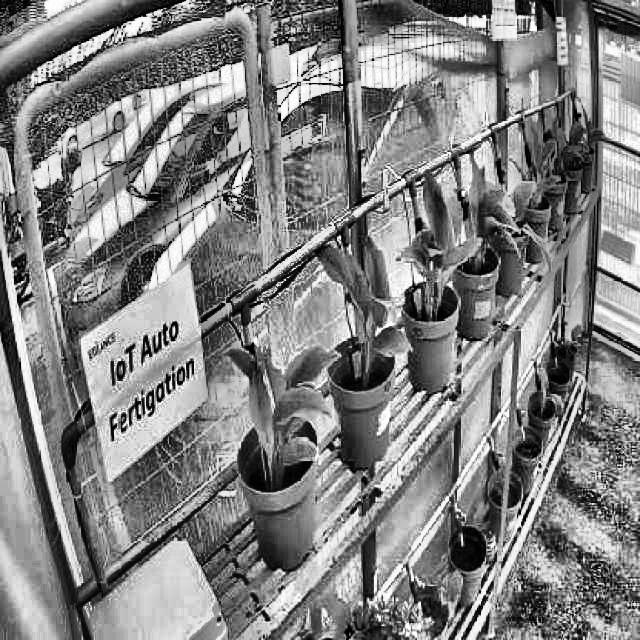plants: (312, 236, 410, 390), (222, 341, 330, 476), (398, 168, 480, 326), (454, 175, 526, 278)
